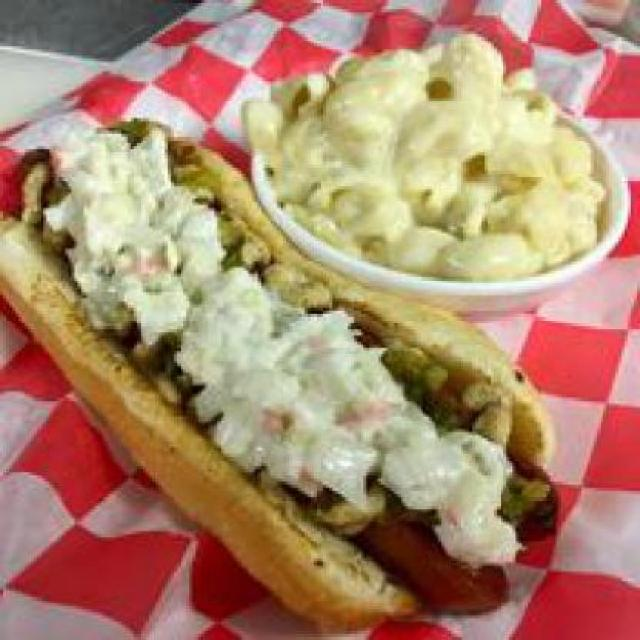hot dog: (12, 140, 557, 622)
macaroni and cheese: (242, 19, 606, 292)
